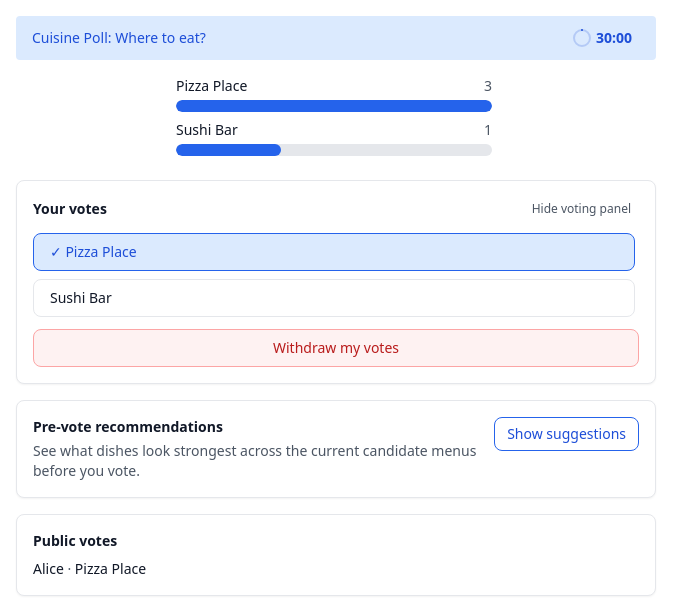
Test: PollActiveView › closes timer menu when clicking outside
This screenshot has width=673, height=613.
Click the button named "poll timer actions" at (602, 38), box [564, 24, 640, 52]
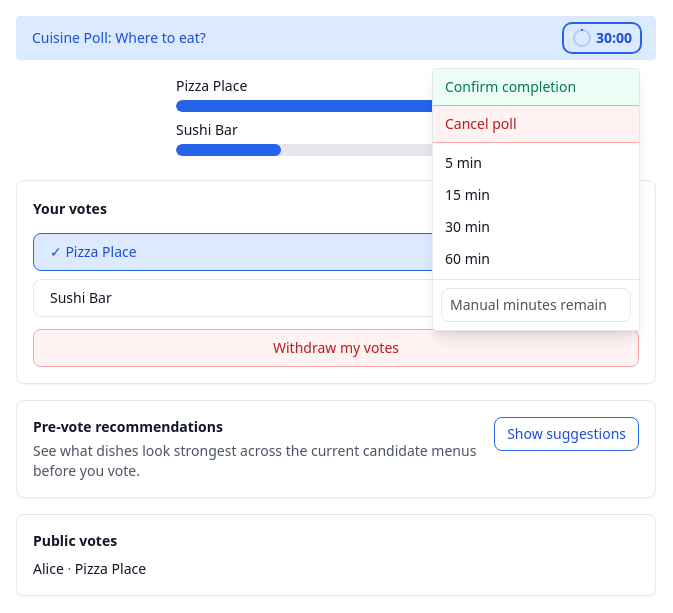
expect the button "Confirm completion" is shown: met, box [433, 69, 639, 106]
Click the heading "Your votes" at (70, 209), box [33, 199, 107, 219]
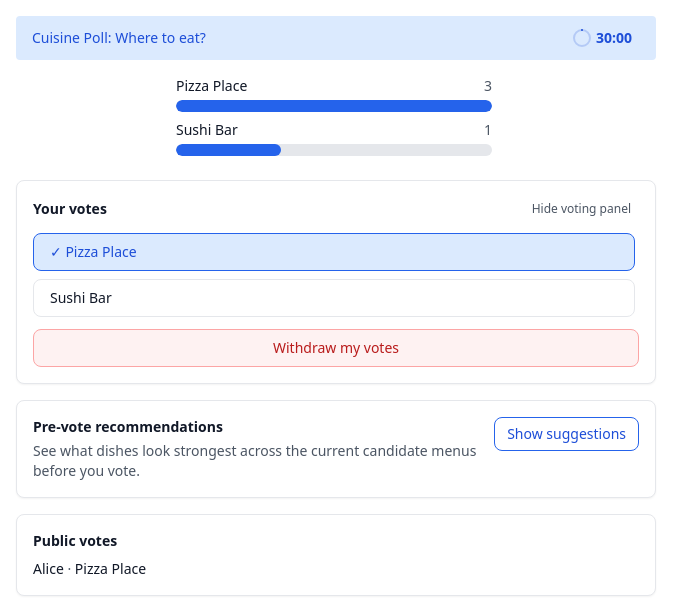
expect the button "Confirm completion" is gone: met
